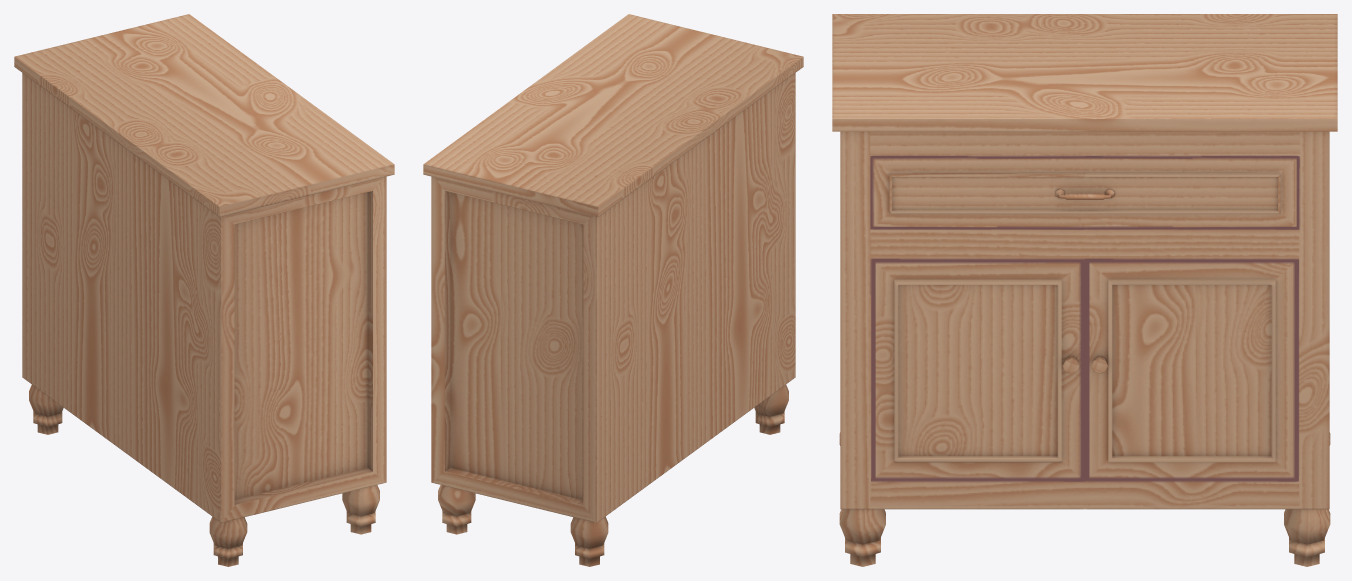
Rendered from cabinet.glb.
3 renders of one model, left to right at view 1: azimuth 30°, elevation 25°; view 2: azimuth 150°, elevation 25°; view 3: azimuth 270°, elevation 25°, orthographic. The views are drawn at different scales.
Visible parts, largest first — view 1: Object_54; view 2: Object_54; view 3: Object_54.
Boxes of the visible parts, x1,y1,x2,y2 form: Object_54: (14, 14, 394, 566); Object_54: (423, 14, 803, 566); Object_54: (832, 14, 1337, 566).
Bounding box in the file's own units: 1.84 × 3.66 × 3.69.
Materials: 1 (1 with a texture image).
